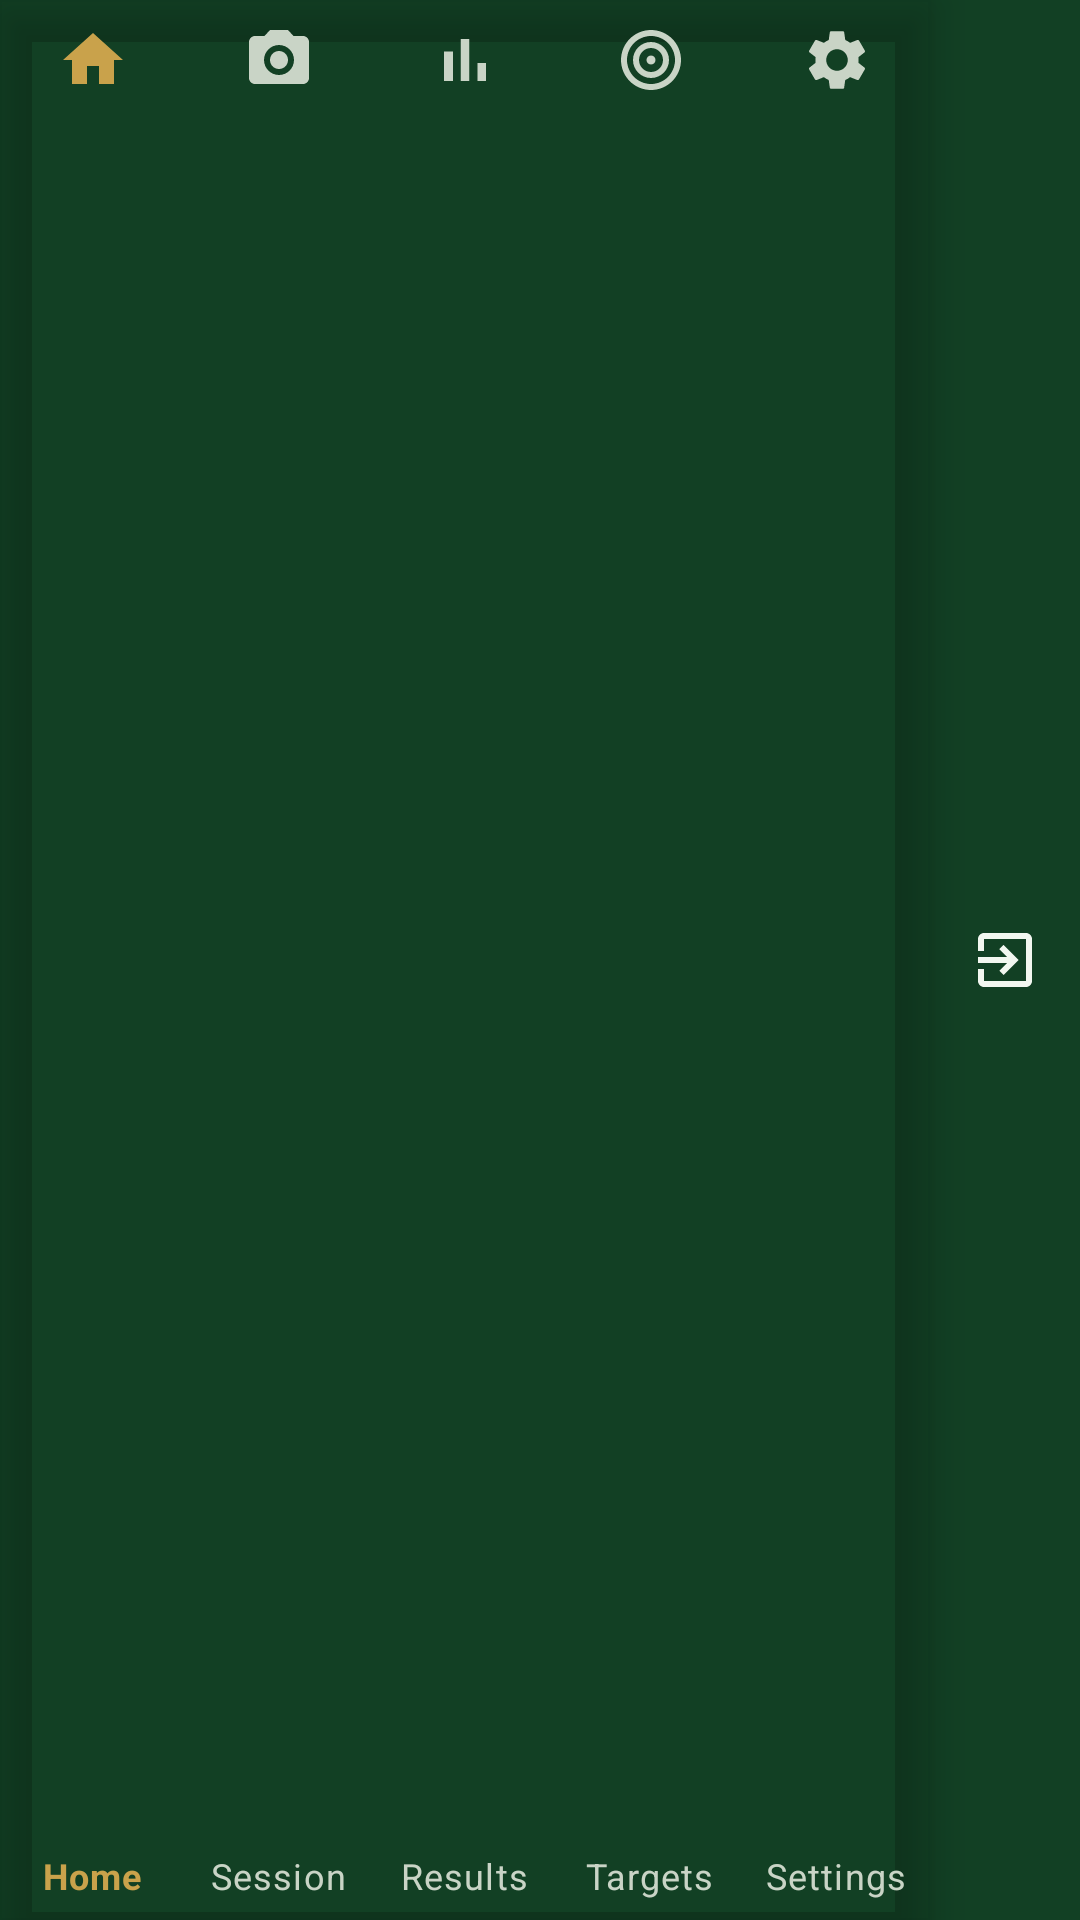

Named icons in this screenshot (1080 × 1920) and their centers, (x,y):
exit: (1005,960)
